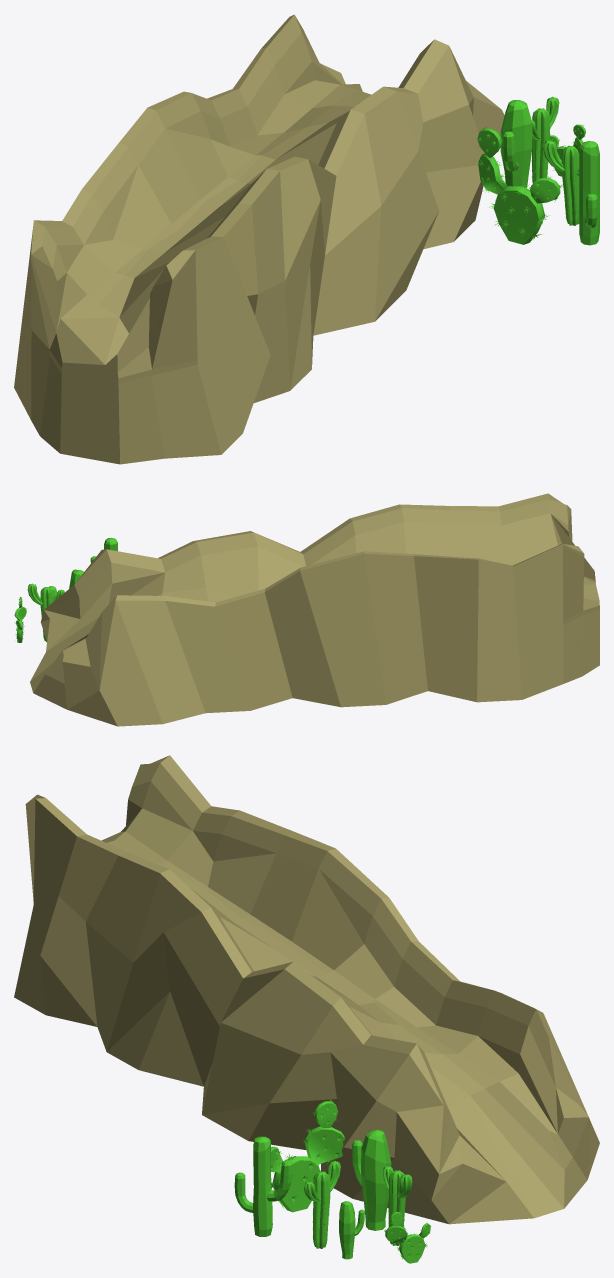
3 renders of one model, top to bottom at view 1: azimuth 30°, elevation 25°; view 2: azimuth 150°, elevation 25°; view 3: azimuth 270°, elevation 25°, orthographic. The views are drawn at different scales.
Visible parts, largest first — view 1: Cube.003, Cactus_01, Circle.002, Circle.001, Cactuss_02.001, Cactuss_02; view 2: Cube.003, Cactuss_02, Cactus_01.001; view 3: Cube.003, Cactus_01, Circle.001, Circle.002, Cactuss_02.001, Cactus_01.001, Cactuss_02, Circle.003.
Part boxes in pixels (x1,y1,x2,y2): Cube.003: (14,14,504,464); Cactus_01: (477,127,562,244); Circle.002: (500,100,532,187); Circle.001: (579,141,599,245); Cactuss_02.001: (543,140,579,225); Cactuss_02: (531,96,559,182); Cube.003: (30,493,599,726); Cactuss_02: (27,583,64,642); Cactus_01.001: (14,597,26,642); Cube.003: (14,755,599,1224); Cactus_01: (271,1099,344,1212); Circle.001: (234,1136,291,1236); Circle.002: (352,1129,391,1230); Cactuss_02.001: (304,1160,340,1248); Cactus_01.001: (384,1212,431,1263); Cactuss_02: (382,1166,412,1245); Circle.003: (339,1201,364,1259).
Size of the model in its own units: 28756 by 8497 by 22219.
